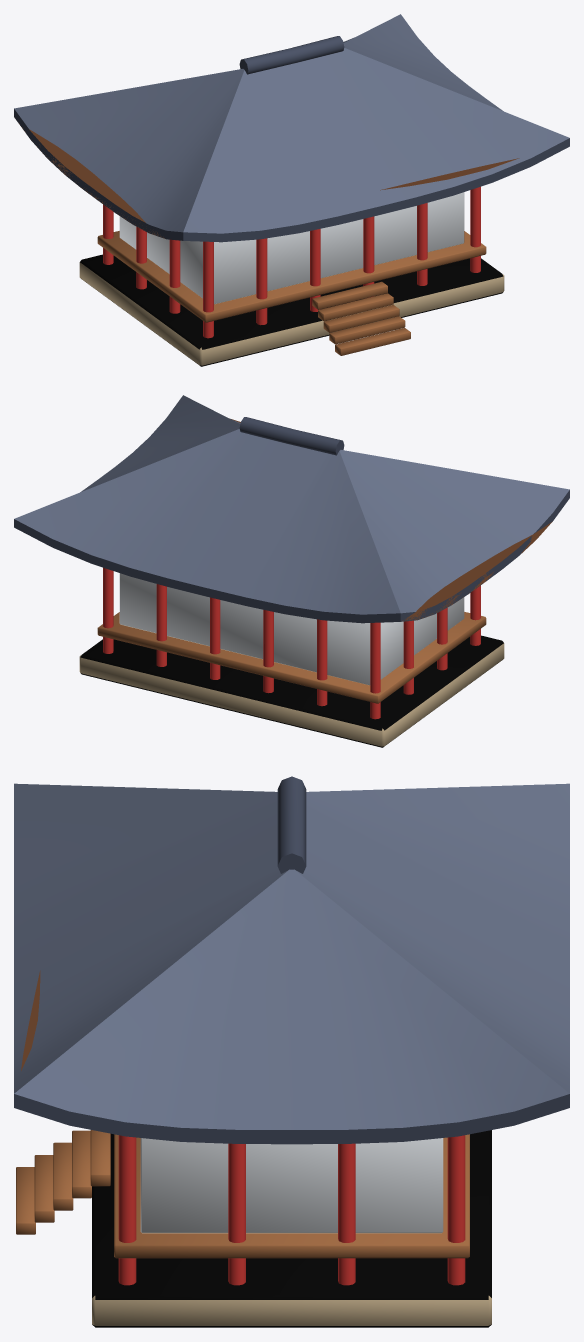
Rendered from ShrineHall.fbx.
3 renders of one model, top to bottom at view 1: azimuth 30°, elevation 25°; view 2: azimuth 150°, elevation 25°; view 3: azimuth 270°, elevation 25°, orthographic. The views are drawn at different scales.
Parts seen in each view (by area): view 1: ShrineHall; view 2: ShrineHall; view 3: ShrineHall.
Boxes of the visible parts, x1,y1,x2,y2 form: ShrineHall: (14, 14, 569, 366); ShrineHall: (14, 395, 569, 747); ShrineHall: (14, 776, 569, 1327).
Bounding box in the file's own units: 16.5 × 9.72 × 12.5.
1 material, 1 textured.
